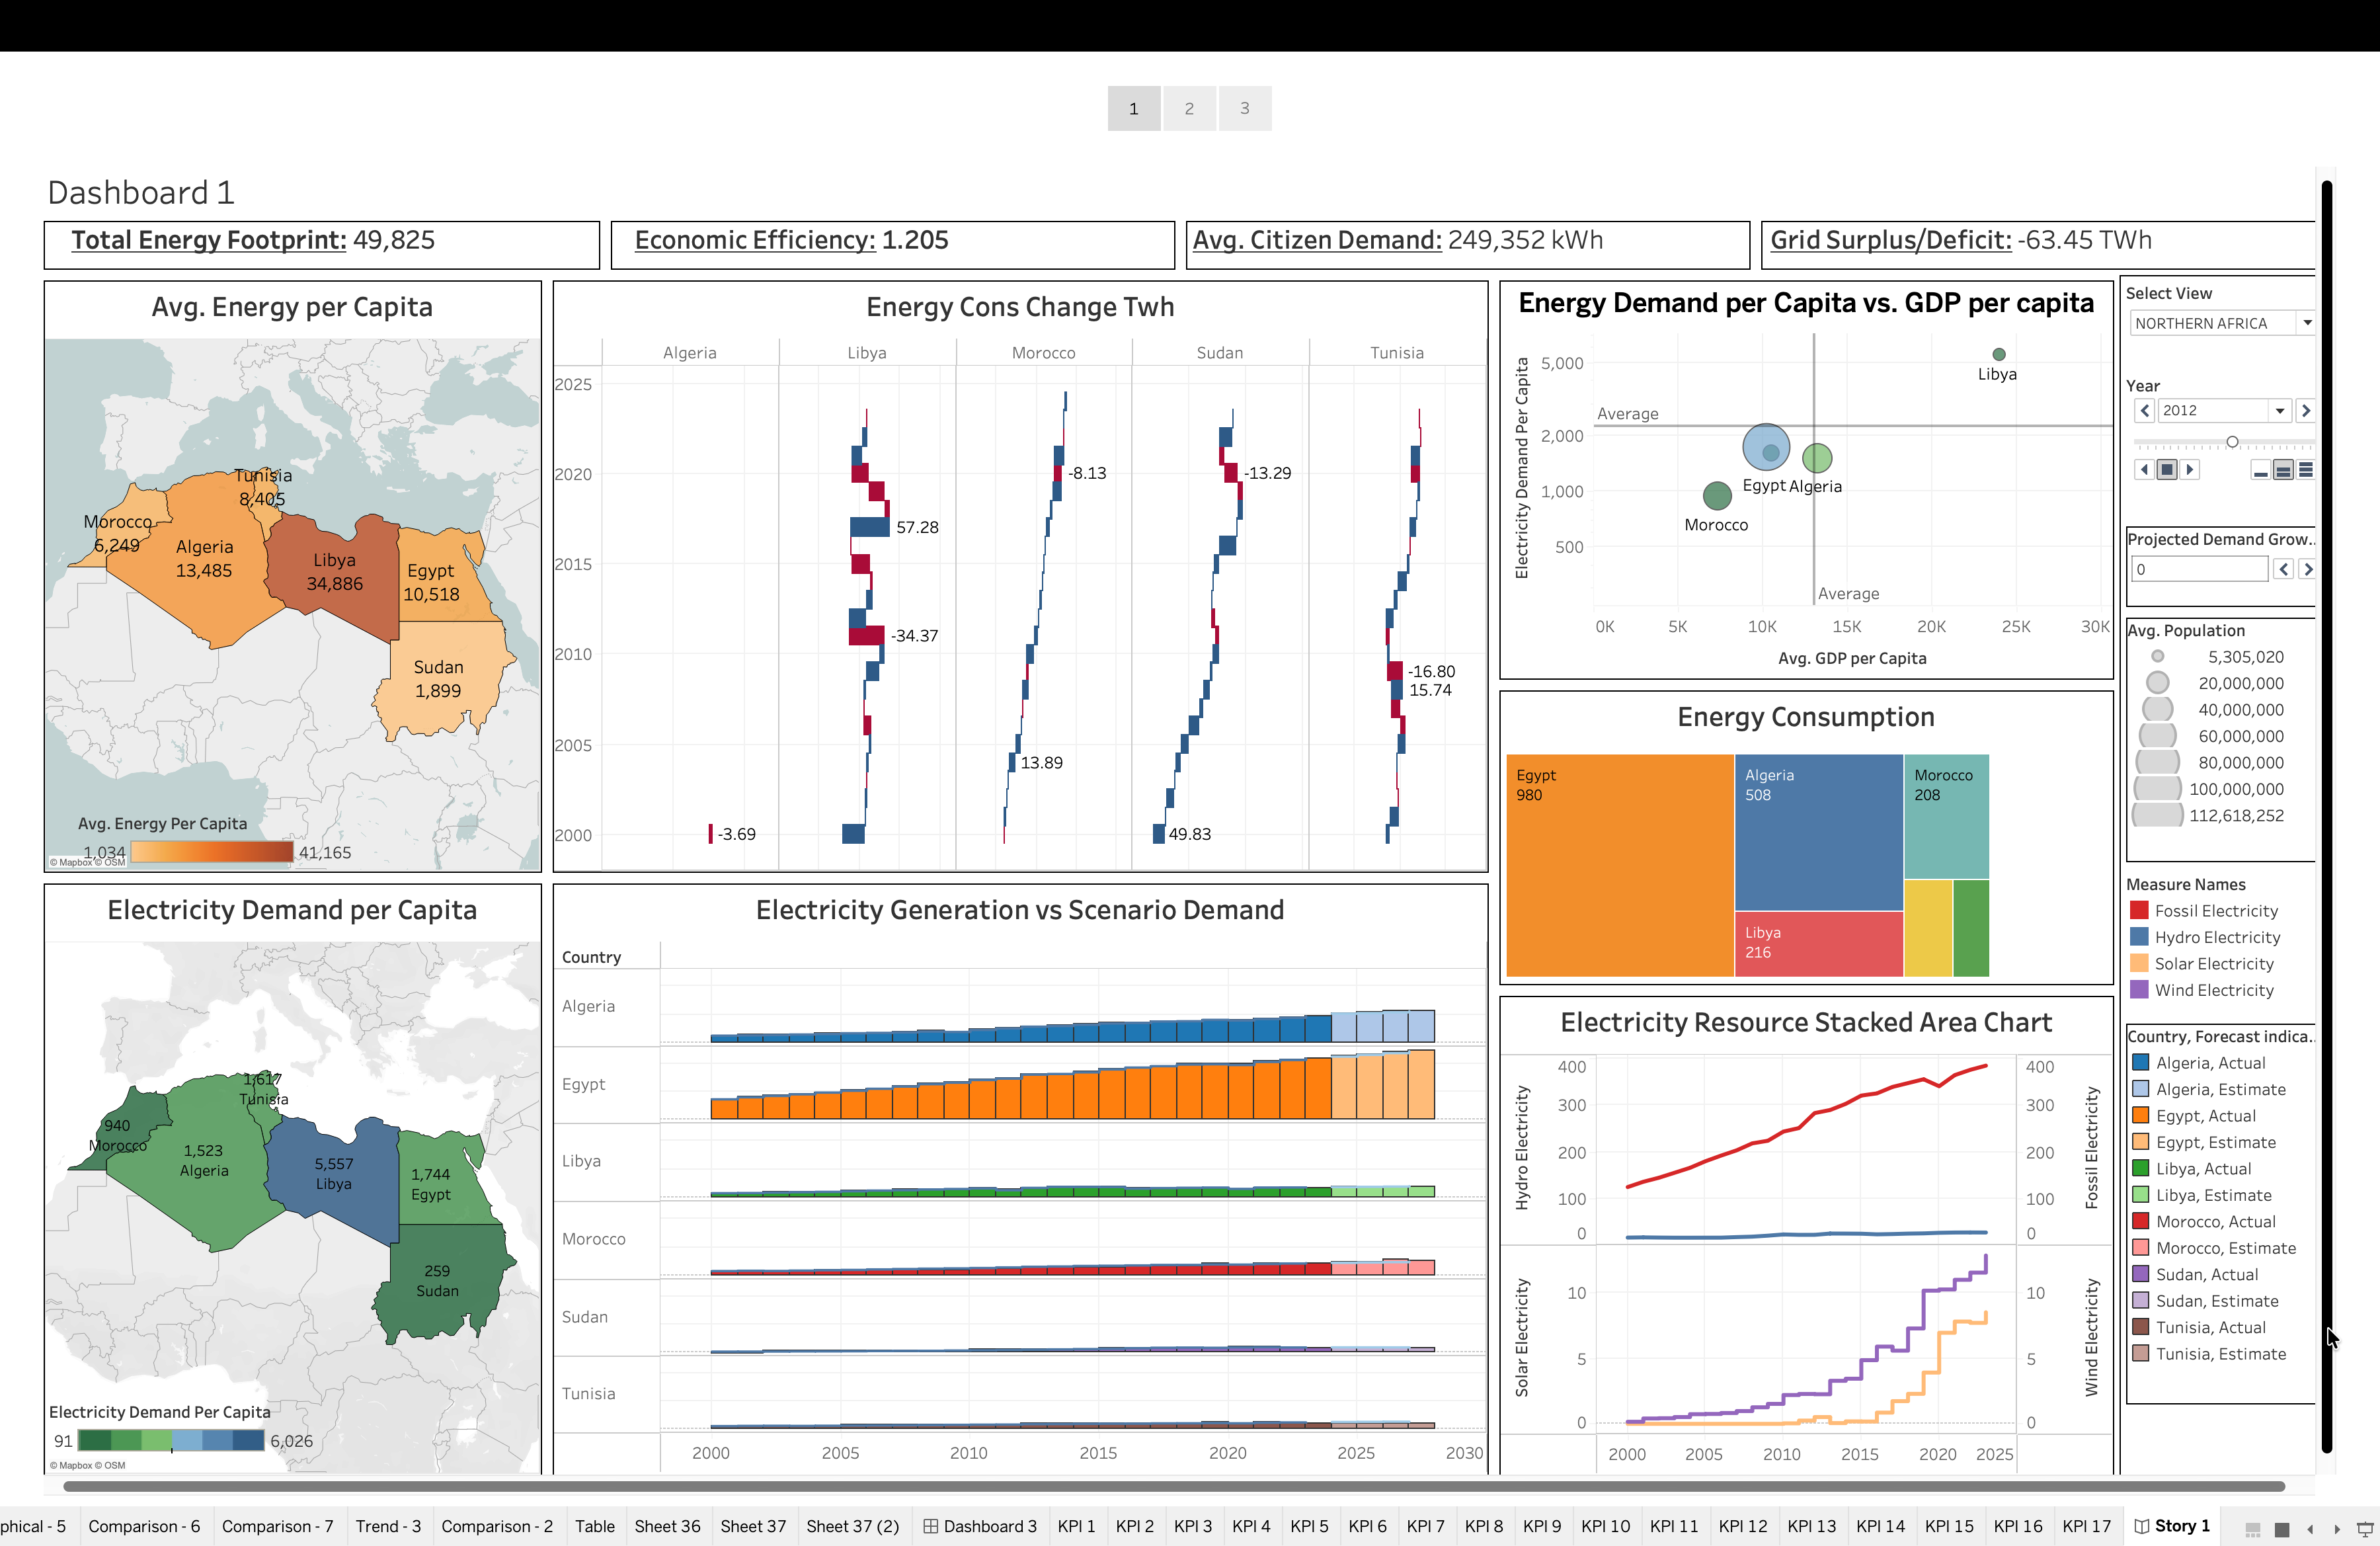

This screenshot's page, from the dashboard's own definition file:
{"tool":"tableau","page":{"name":"Dashboard 1","canvas":[1750,1010],"ordinal":0},"visuals":[{"type":"title","box":[8,8,1734,37]},{"type":"worksheet","title":"KPI 6","mark":"Automatic","box":[8,45,429,45]},{"type":"worksheet","title":"KPI 7","mark":"Automatic","box":[437,45,435,45]},{"type":"worksheet","title":"KPI 8","mark":"Automatic","box":[872,45,435,45]},{"type":"worksheet","title":"KPI 9","mark":"Automatic","box":[1307,45,435,45]},{"type":"worksheet","title":"Geographical - 1","mark":"Multipolygon","box":[8,90,385,455.9]},{"type":"worksheet","title":"Trend - 1","mark":"GanttBar","rows":["year"],"cols":["country"],"box":[393,90,716,456]},{"type":"worksheet","title":"Relationship - 2","mark":"Circle","rows":["electricity_demand_per_capita"],"cols":["CF (copy)_1477789583286293"],"box":[1109,90,473,310]},{"type":"parameter","param":"[Parameters].[Parameter 5]","box":[1583,91,158,70]},{"type":"currpage","title":"Relationship - 2","box":[1583,161,158,115]},{"type":"parameter","param":"[Parameters].[Parameter 3]","box":[1583,276,158,69]},{"type":"legend","title":"Relationship - 2","param":"[federated.0qilly508yxdw615ldf7t1qhfyta].[avg:population:qk]","box":[1583,345,158,193]},{"type":"worksheet","title":"Composition - 4","mark":"Square","box":[1109,400,473,231]},{"type":"legend","title":"Geographical - 1","param":"[federated.0qilly508yxdw615ldf7t1qhfyta].[avg:energy_per_capita:qk]","box":[38,496,212,40]},{"type":"legend","title":"Composition - 2","param":"[federated.0qilly508yxdw615ldf7t1qhfyta].[:Measure Names]","box":[1583,538,158,114]},{"type":"worksheet","title":"Geographical - 2","mark":"Automatic","box":[8,545.9,385,456.1]},{"type":"worksheet","title":"Relationship - 1","mark":"Automatic","rows":["country","electricity_generation","CF (copy)_1477789500629001"],"cols":["year"],"box":[393,546,716,456]},{"type":"worksheet","title":"Composition - 2","mark":"Line","rows":["hydro_electricity","fossil_electricity","solar_electricity","wind_electricity"],"cols":["year"],"box":[1109,631,473,371]},{"type":"legend","title":"Relationship - 1","param":"[federated.0qilly508yxdw615ldf7t1qhfyta].[none:country:nk]\n[federated.0qilly508y","box":[1583,652,158,296]},{"type":"legend","title":"Geographical - 2","param":"[federated.0qilly508yxdw615ldf7t1qhfyta].[sum:electricity_demand_per_capita:qk]","box":[16,941,205,52]}]}

Visuals, with their boxes on the page's 1750x1010 design canvas (x1, y1, x2, y2). These are canvas units, not pixel positions in the 2380x1546 screenshot, which may show the page scaled, cropped or inside an application window:
title: pyautogui.locateOnScreen(8, 8, 1742, 45)
"KPI 6" worksheet: pyautogui.locateOnScreen(8, 45, 437, 90)
"KPI 7" worksheet: pyautogui.locateOnScreen(437, 45, 872, 90)
"KPI 8" worksheet: pyautogui.locateOnScreen(872, 45, 1307, 90)
"KPI 9" worksheet: pyautogui.locateOnScreen(1307, 45, 1742, 90)
"Geographical - 1" worksheet (Multipolygon marks): pyautogui.locateOnScreen(8, 90, 393, 546)
"Trend - 1" worksheet (GanttBar marks): pyautogui.locateOnScreen(393, 90, 1109, 546)
"Relationship - 2" worksheet (Circle marks): pyautogui.locateOnScreen(1109, 90, 1582, 400)
parameter: pyautogui.locateOnScreen(1583, 91, 1741, 161)
"Relationship - 2" currpage: pyautogui.locateOnScreen(1583, 161, 1741, 276)
parameter: pyautogui.locateOnScreen(1583, 276, 1741, 345)
"Relationship - 2" legend: pyautogui.locateOnScreen(1583, 345, 1741, 538)
"Composition - 4" worksheet (Square marks): pyautogui.locateOnScreen(1109, 400, 1582, 631)
"Geographical - 1" legend: pyautogui.locateOnScreen(38, 496, 250, 536)
"Composition - 2" legend: pyautogui.locateOnScreen(1583, 538, 1741, 652)
"Geographical - 2" worksheet: pyautogui.locateOnScreen(8, 546, 393, 1002)
"Relationship - 1" worksheet: pyautogui.locateOnScreen(393, 546, 1109, 1002)
"Composition - 2" worksheet (Line marks): pyautogui.locateOnScreen(1109, 631, 1582, 1002)
"Relationship - 1" legend: pyautogui.locateOnScreen(1583, 652, 1741, 948)
"Geographical - 2" legend: pyautogui.locateOnScreen(16, 941, 221, 993)
